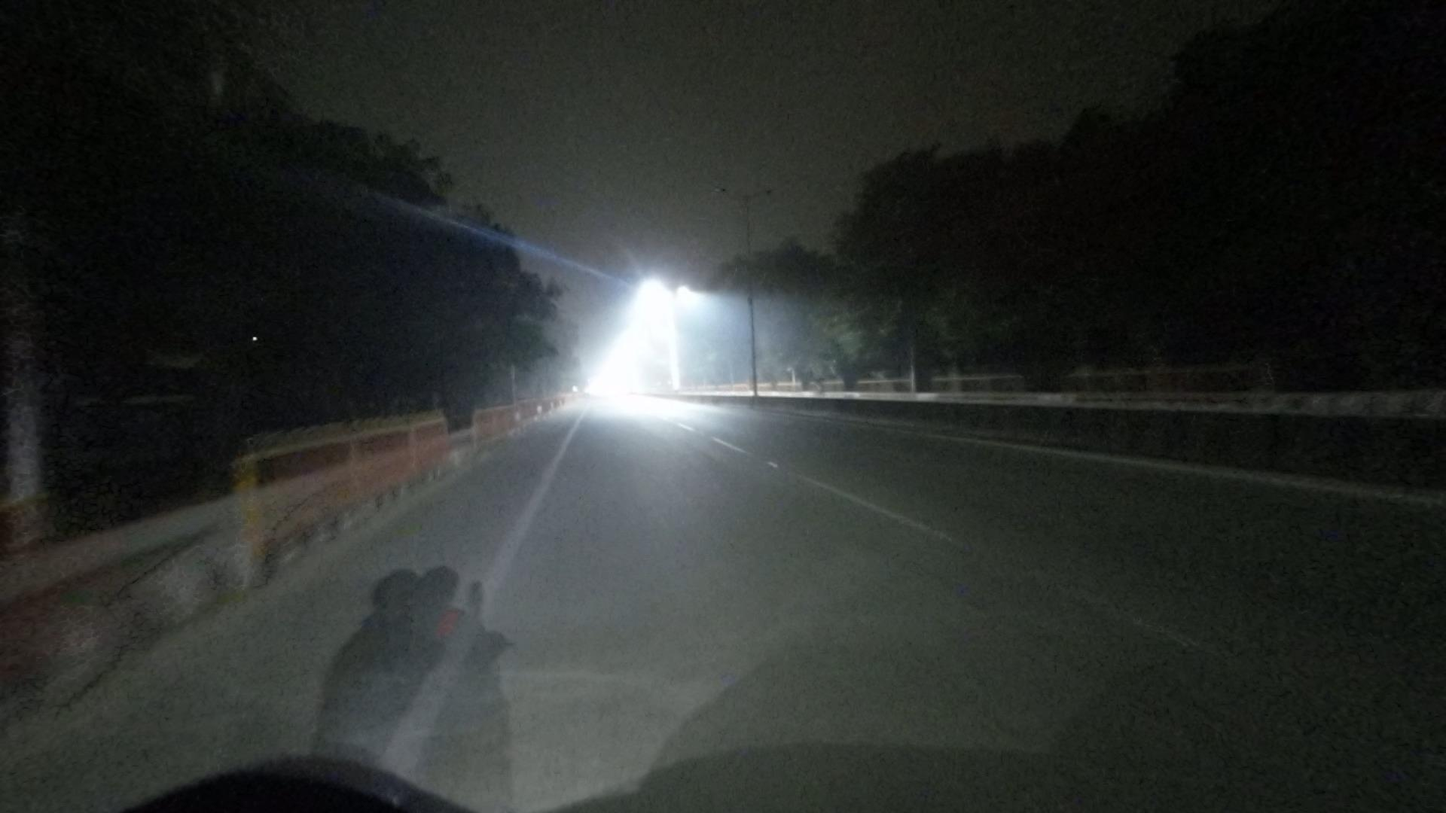streetlight: (712, 186, 744, 201), (752, 187, 775, 197)
